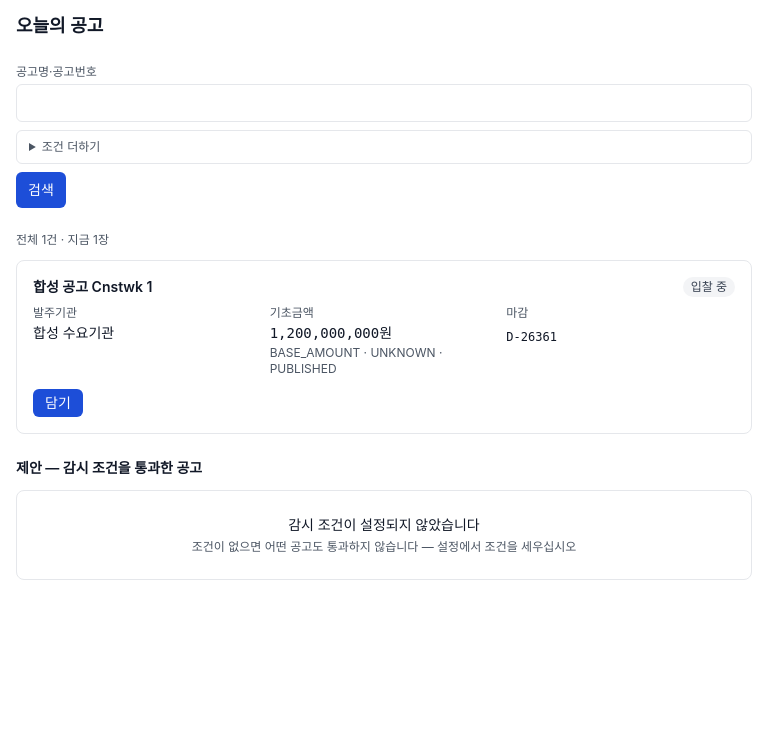
it: 화면 B — 담기(여정 ②의 마지막 걸음) › 담기가 실패하면 그 사실이 뜨고 성공 토스트는 뜨지 않는다
This screenshot has width=769, height=733.
Click the button "담기": (58, 403) [33,389,83,417]
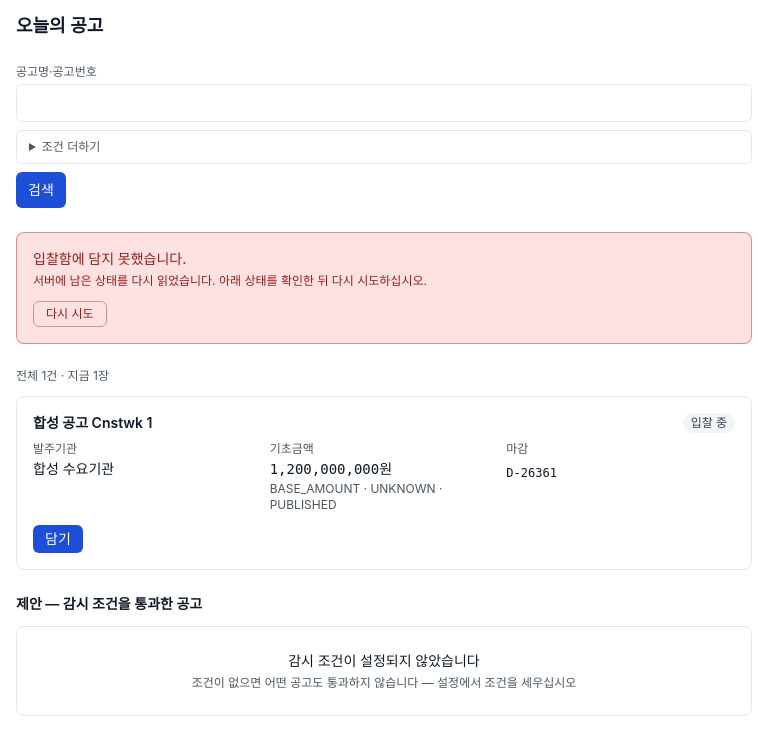
Result: the message with test id "write-failure" shows "담지 못했습니다" at [16,232,752,344]
Result: the button "다시 시도" is shown at [33,301,106,327]
